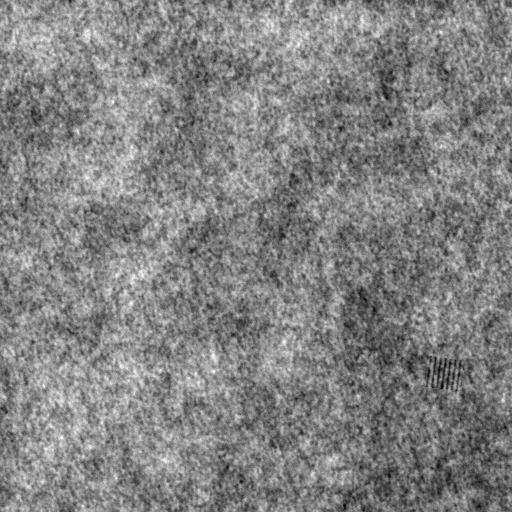DefectTypeB: (428, 355, 463, 393)
